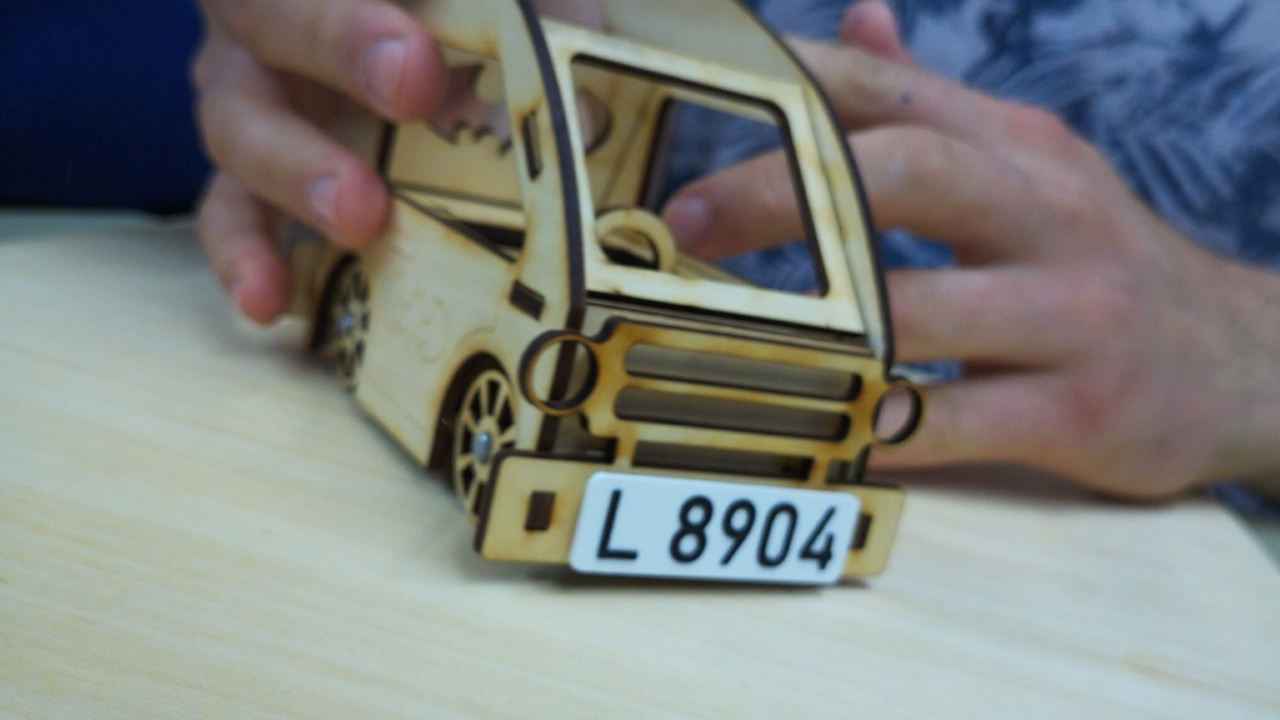license_plate: (565, 466, 862, 588)
